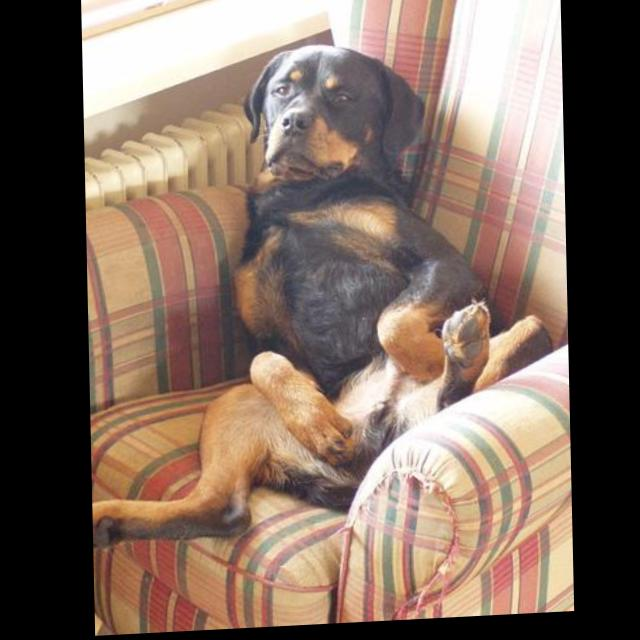rottweiler: (83, 38, 554, 552)
